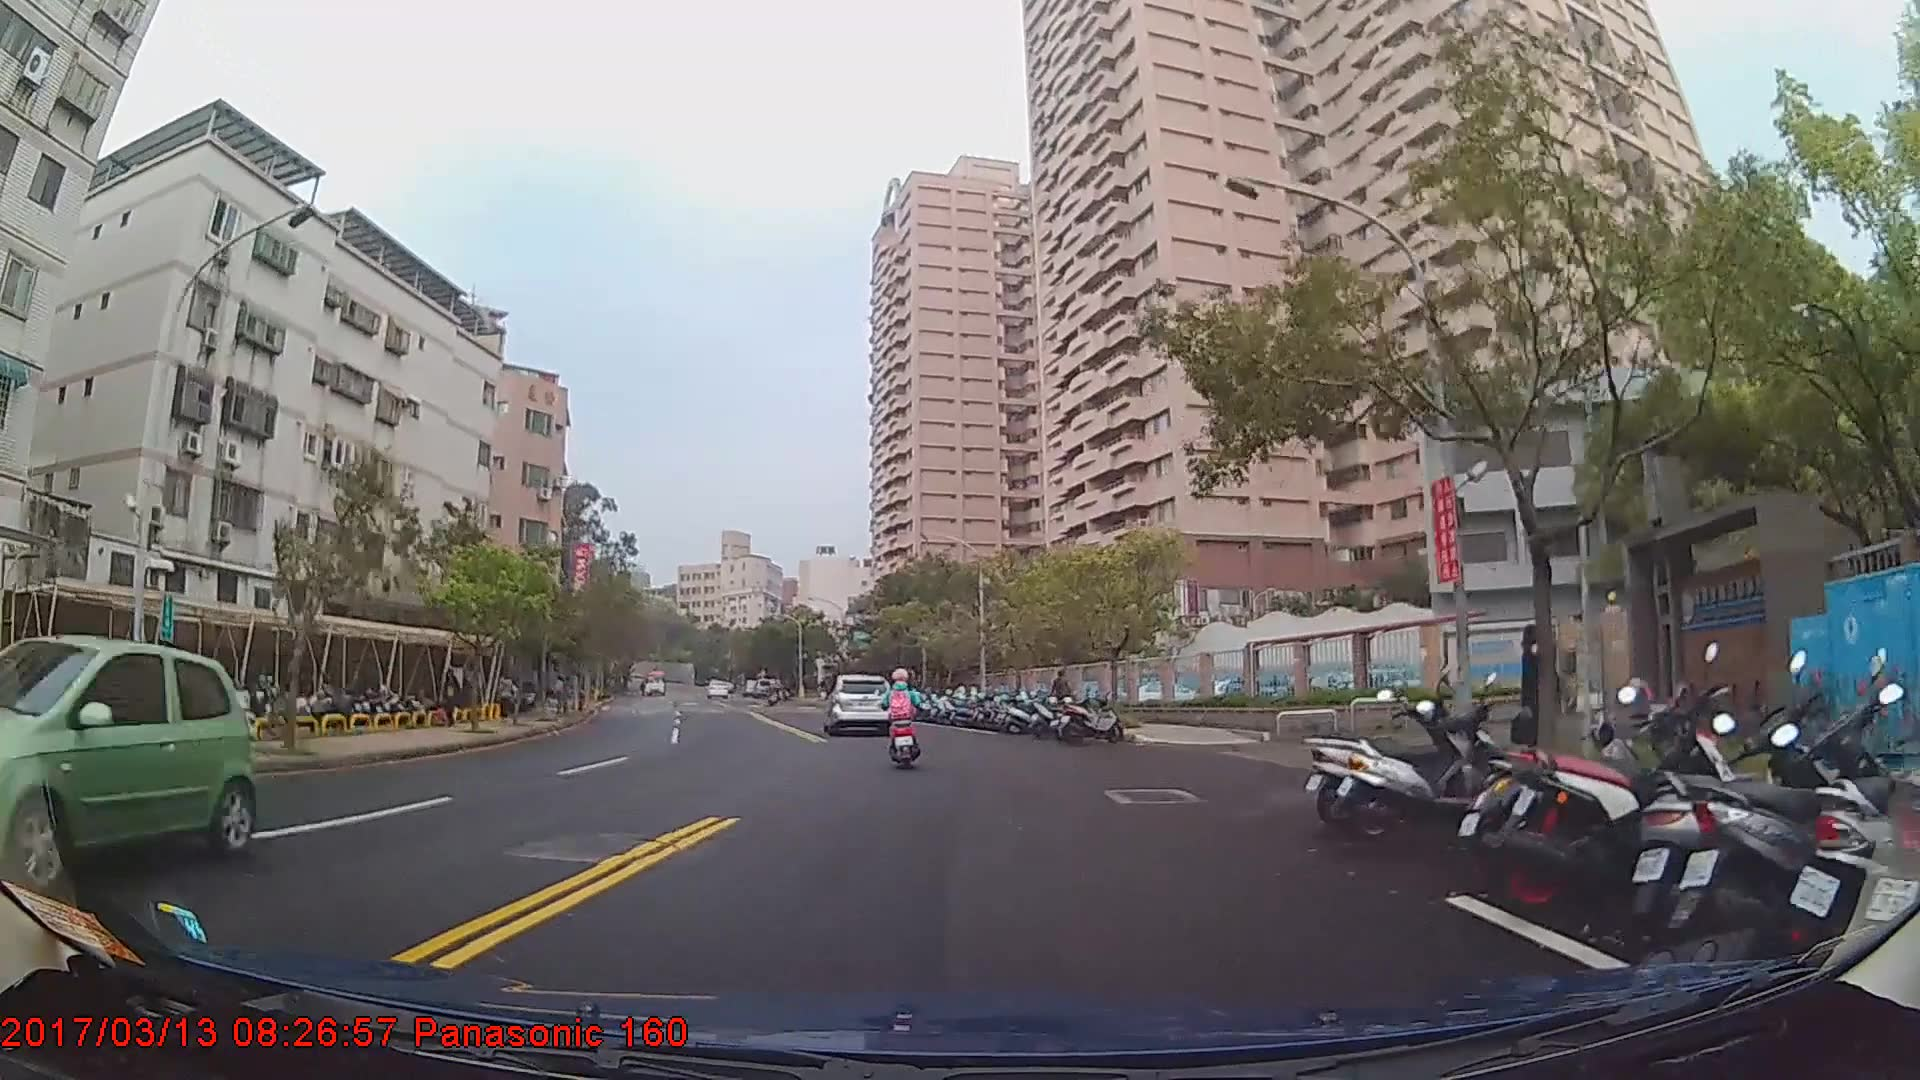pedestrian: (1520, 623, 1560, 769), (438, 669, 464, 728), (1054, 670, 1074, 726)
rider: (882, 669, 926, 766)
vehicle: (0, 635, 253, 884), (821, 672, 894, 737), (640, 666, 670, 696)
